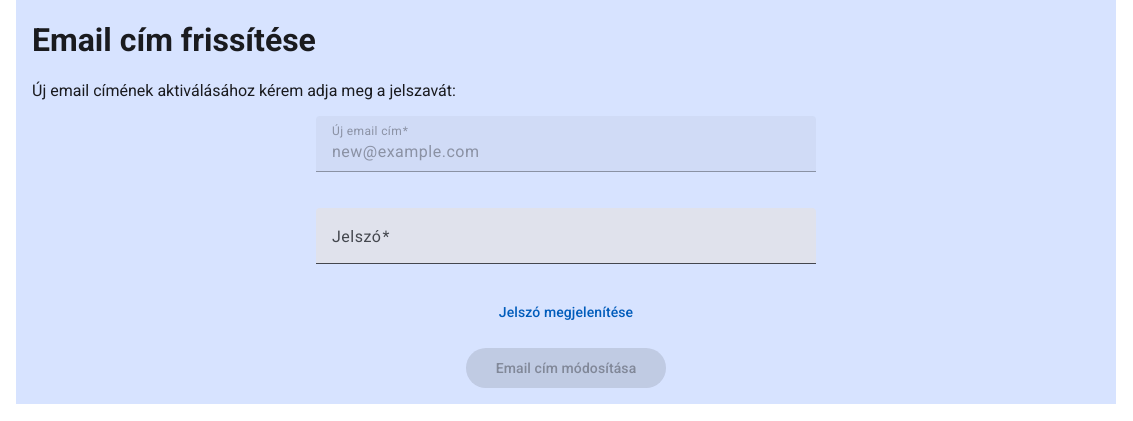
Test case: ProfileUpdateEmailComponent › form validation › submit button is enabled when password is valid
In the password field labelled "Jelszó": (566, 244) [332,232,800,256], type "ValidPassword123"
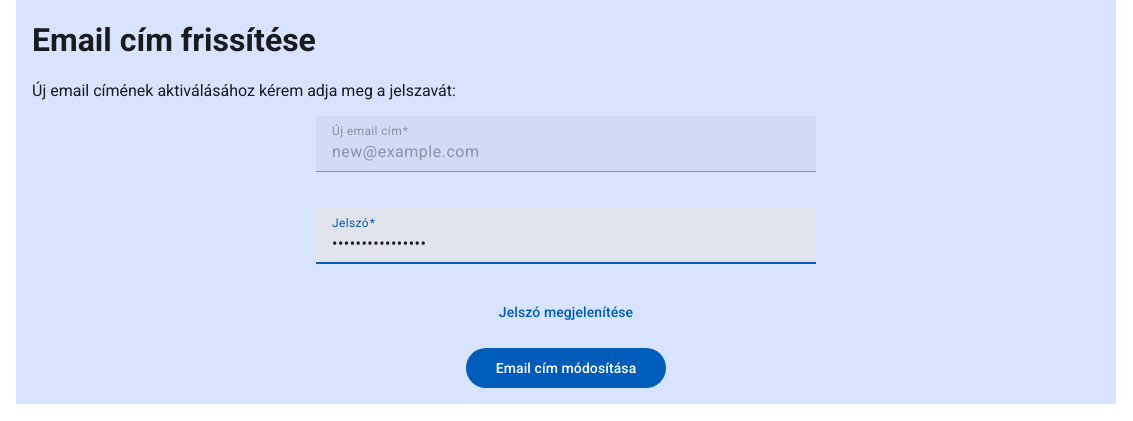
expect the button "Email cím módosítása" is enabled: met, box [466,348,666,388]
